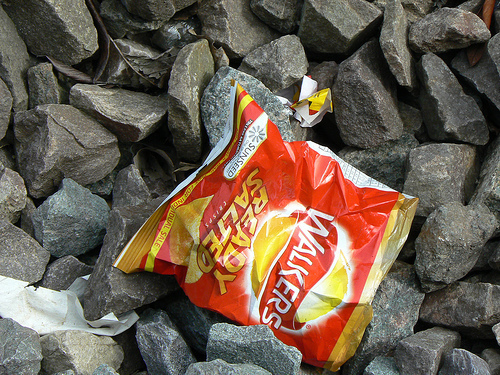litter: (112, 75, 417, 370)
